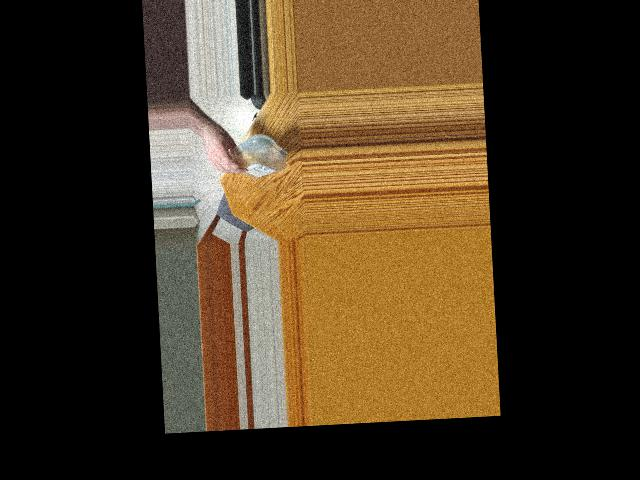cheese: (219, 138, 284, 178)
